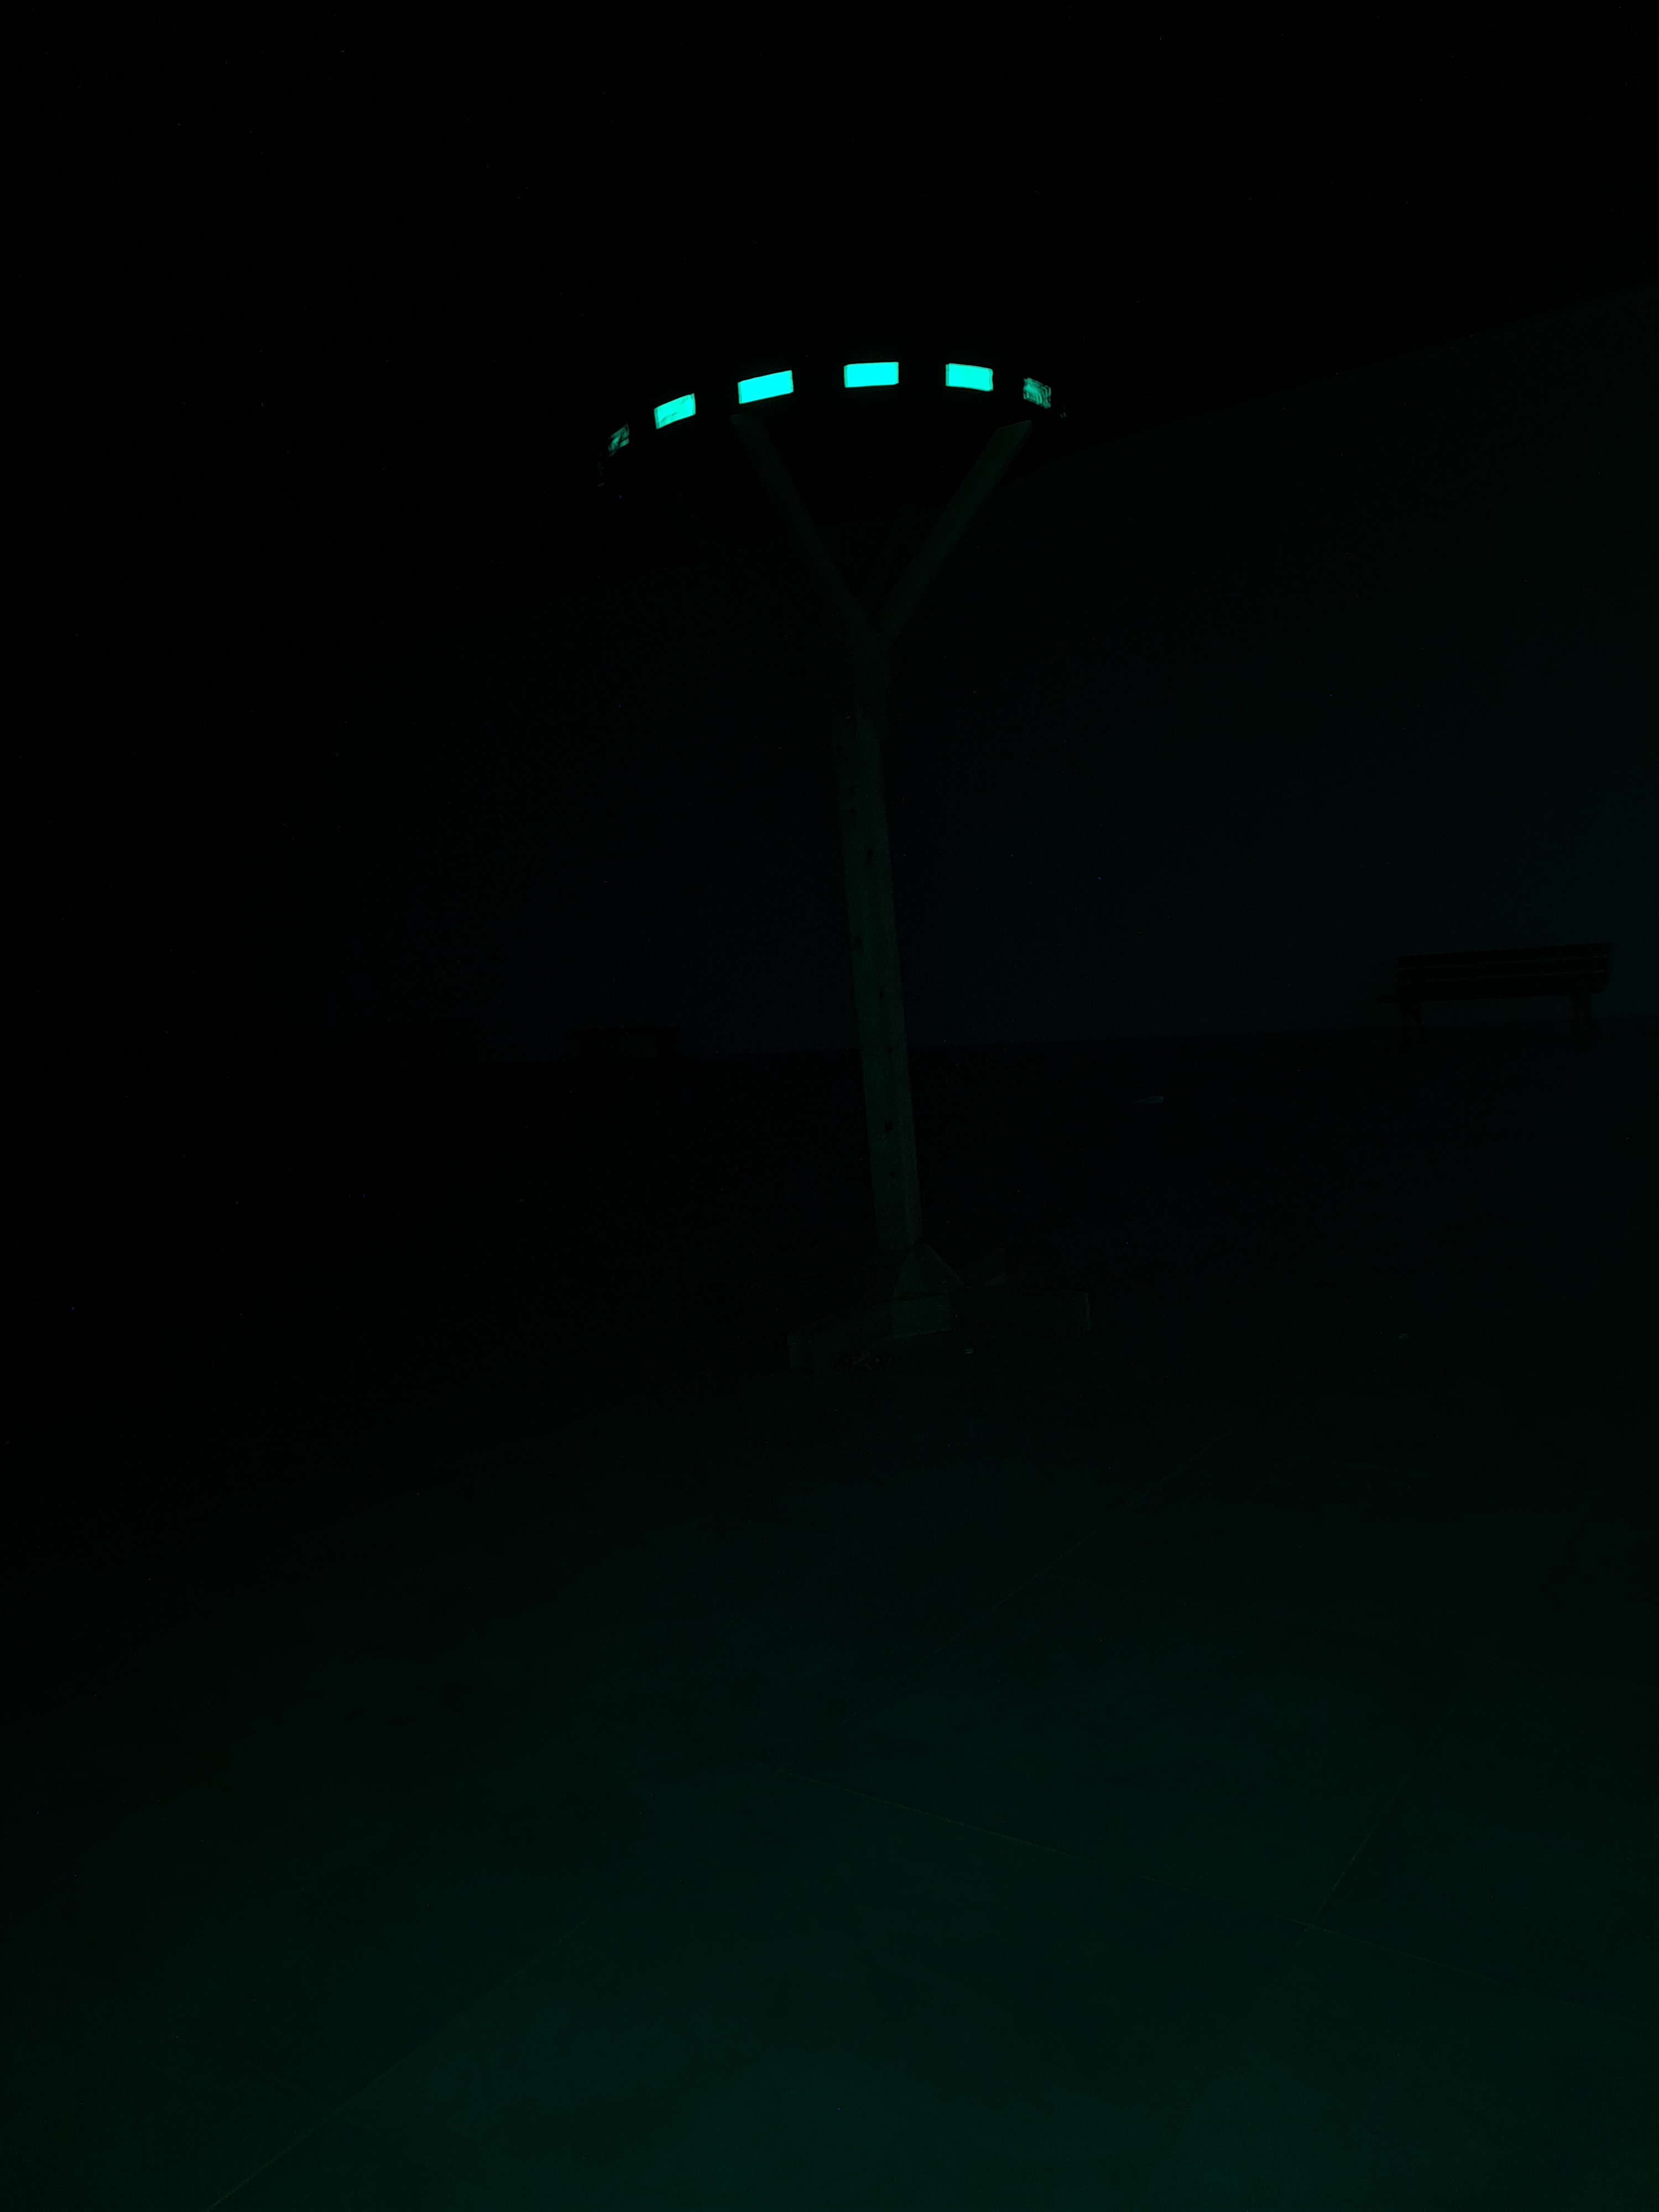hoop: (615, 348, 1056, 448)
